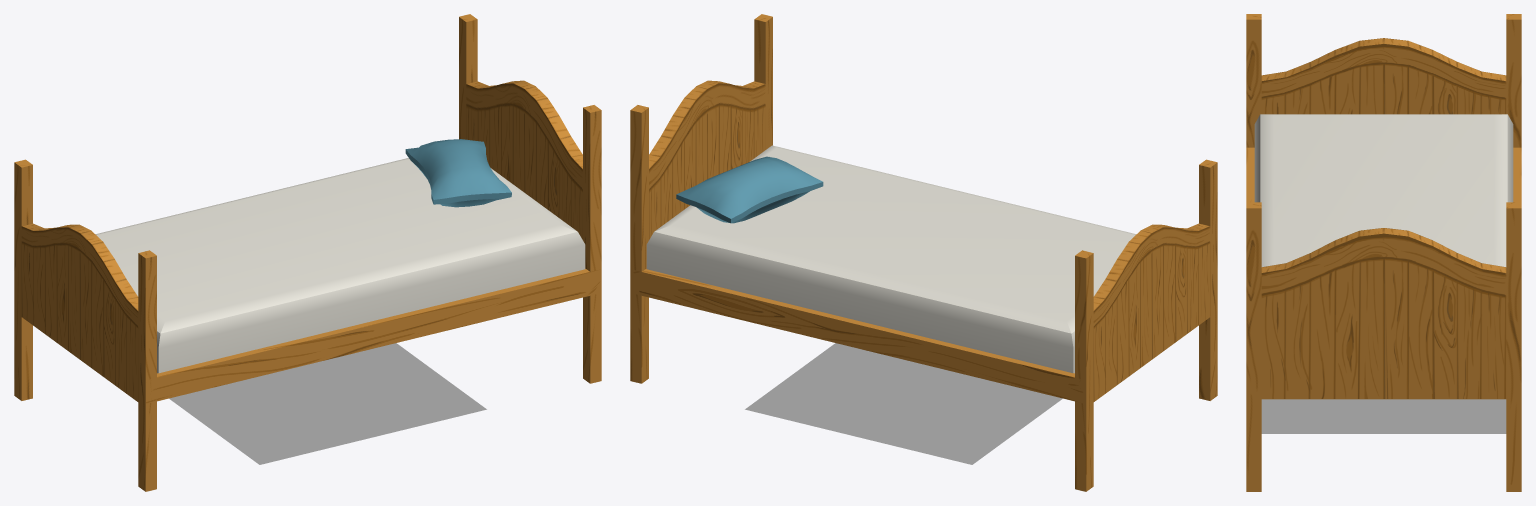
The model's file is furniture_bed_boy_D.fbx.
3 views of the same model, side by side, from view 1: azimuth 30°, elevation 25°; view 2: azimuth 150°, elevation 25°; view 3: azimuth 270°, elevation 25° (orthographic). The views are drawn at different scales.
Visible parts, largest first — view 1: singleBed_mattress, singleBed_bottom, pPlane1, singleBed_top, singleBed_bottom_frame, pillow; view 2: singleBed_mattress, singleBed_bottom, pPlane1, singleBed_top, singleBed_bottom_frame, pillow; view 3: singleBed_top, singleBed_mattress, singleBed_bottom, pPlane1, singleBed_bottom_frame.
Part boxes in pixels (x1=…): singleBed_mattress: x1=96, y1=158, x2=585, y2=373; singleBed_bottom: x1=14, y1=159, x2=156, y2=491; pPlane1: x1=169, y1=343, x2=486, y2=464; singleBed_top: x1=459, y1=14, x2=601, y2=383; singleBed_bottom_frame: x1=146, y1=269, x2=600, y2=403; pillow: x1=405, y1=139, x2=511, y2=207; singleBed_mattress: x1=646, y1=145, x2=1135, y2=373; singleBed_bottom: x1=1075, y1=159, x2=1217, y2=491; pPlane1: x1=745, y1=343, x2=1062, y2=464; singleBed_top: x1=630, y1=14, x2=772, y2=383; singleBed_bottom_frame: x1=631, y1=269, x2=1085, y2=403; pillow: x1=676, y1=156, x2=823, y2=223; singleBed_top: x1=1246, y1=202, x2=1521, y2=491; singleBed_mattress: x1=1254, y1=114, x2=1513, y2=266; singleBed_bottom: x1=1246, y1=14, x2=1521, y2=147; pPlane1: x1=1261, y1=399, x2=1506, y2=433; singleBed_bottom_frame: x1=1246, y1=147, x2=1521, y2=399.
Size of the model in its own units: 2 by 1.14 by 1.
Materials: 5 (2 with a texture image).
